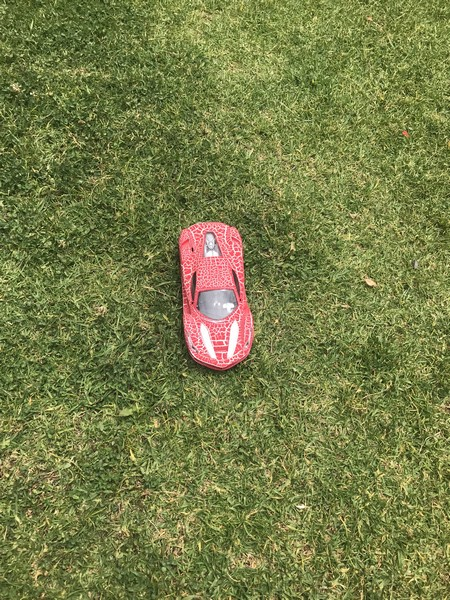RC: (174, 217, 256, 373)
